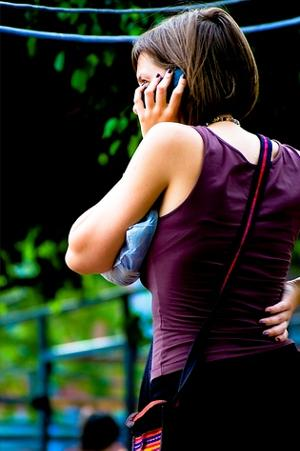person: (66, 9, 300, 451)
